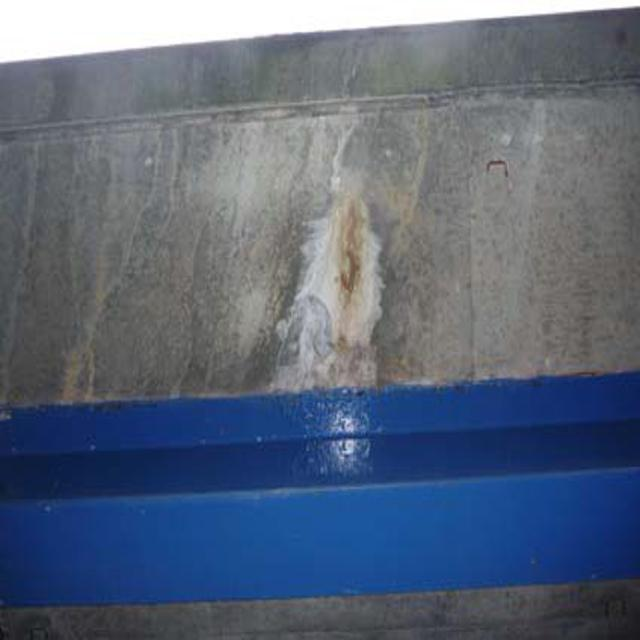freelime: (260, 187, 404, 396)
